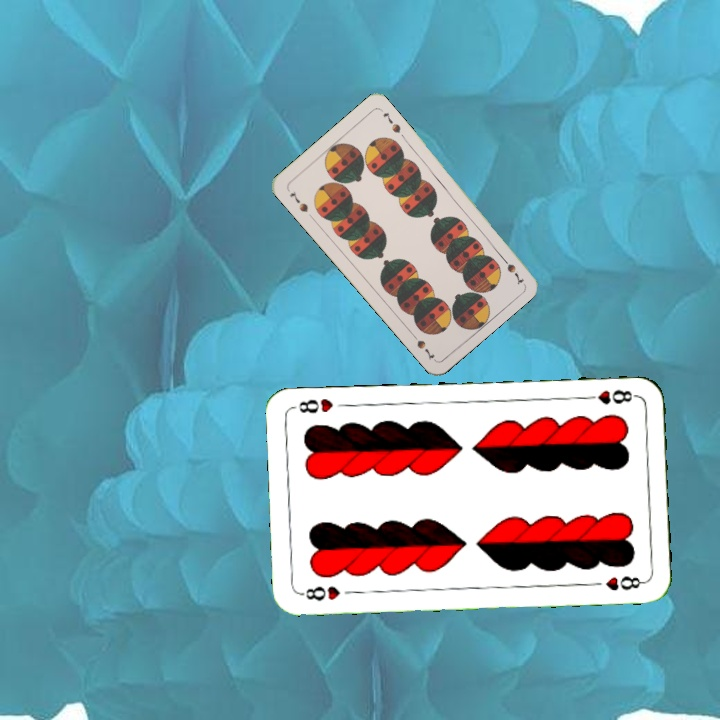H8: (580, 385, 639, 407), (297, 582, 343, 604)
S7: (496, 251, 527, 286), (286, 187, 311, 215)
